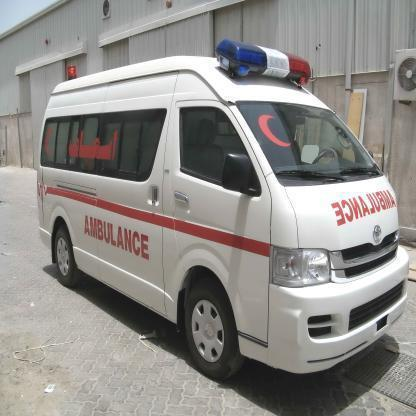Ambulance: (71, 207, 162, 274), (327, 185, 407, 237)
